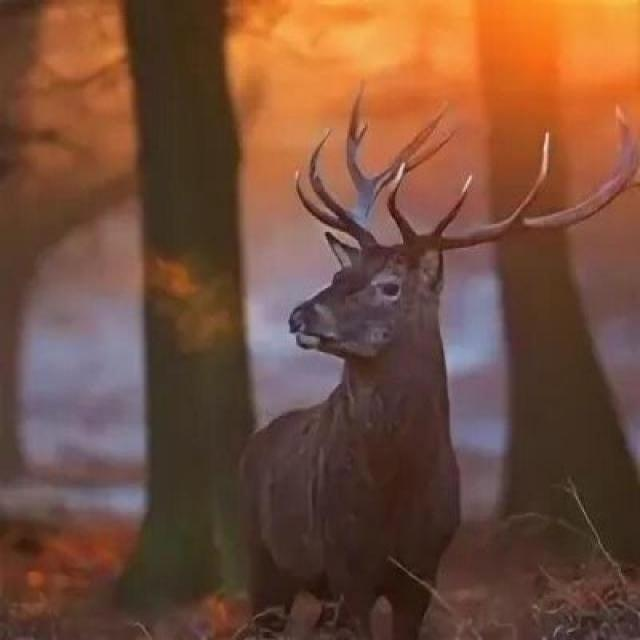deer: (138, 123, 568, 621)
